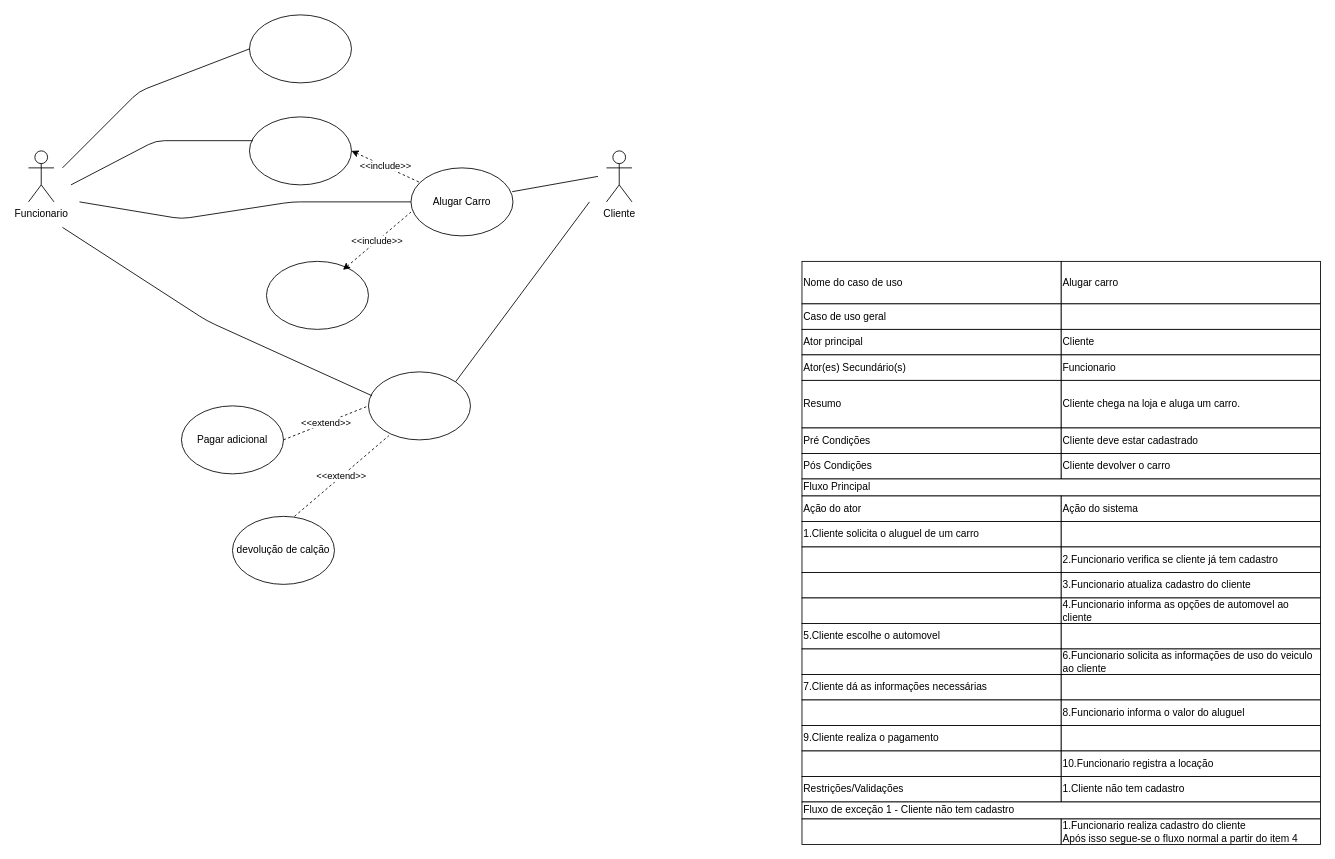
This 1335x859 diagram has some shape labels left out. Each missing label, with the centre of its shape:
Devolver carro: the point at 419,405
Manter Cliente: the point at 300,150
Manter Veiculo: the point at 300,48
Pagamento locação + caução: the point at 317,295
